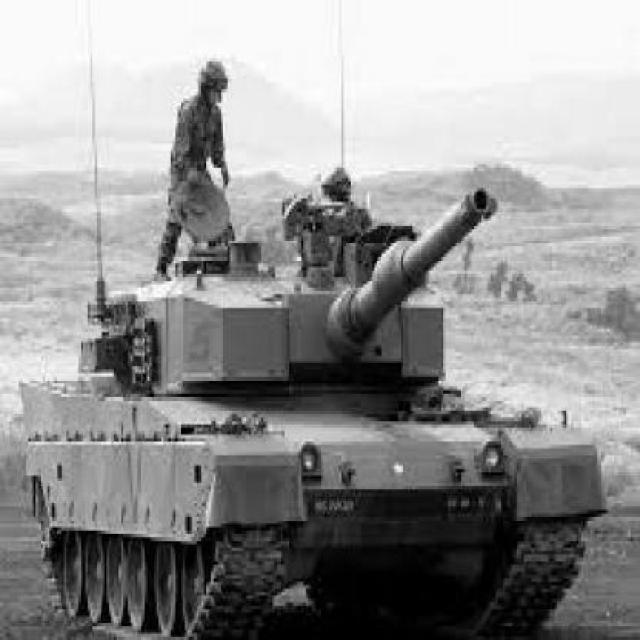Person: (152, 55, 232, 279)
Tank: (17, 175, 611, 638)
